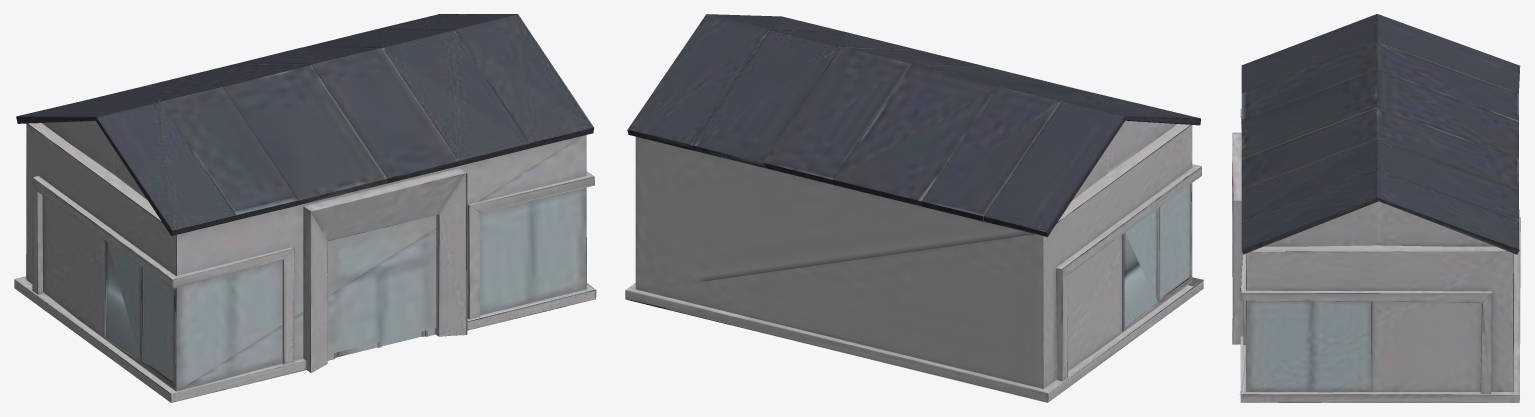
Rendered from 10-supermarket.glb.
The picture shows the model from 3 angles, left to right: view 1: azimuth 30°, elevation 25°; view 2: azimuth 150°, elevation 25°; view 3: azimuth 270°, elevation 25°; orthographic projection. The views are drawn at different scales.
Parts seen in each view (by area): view 1: geometry_0; view 2: geometry_0; view 3: geometry_0.
Boxes of the visible parts, box(x1,y1,x2,y2) form: geometry_0: box(14, 14, 596, 402); geometry_0: box(625, 14, 1203, 402); geometry_0: box(1232, 14, 1520, 402).
Size of the model in its own units: 0.9575 by 0.4932 by 0.6303.
1 material, 1 textured.
